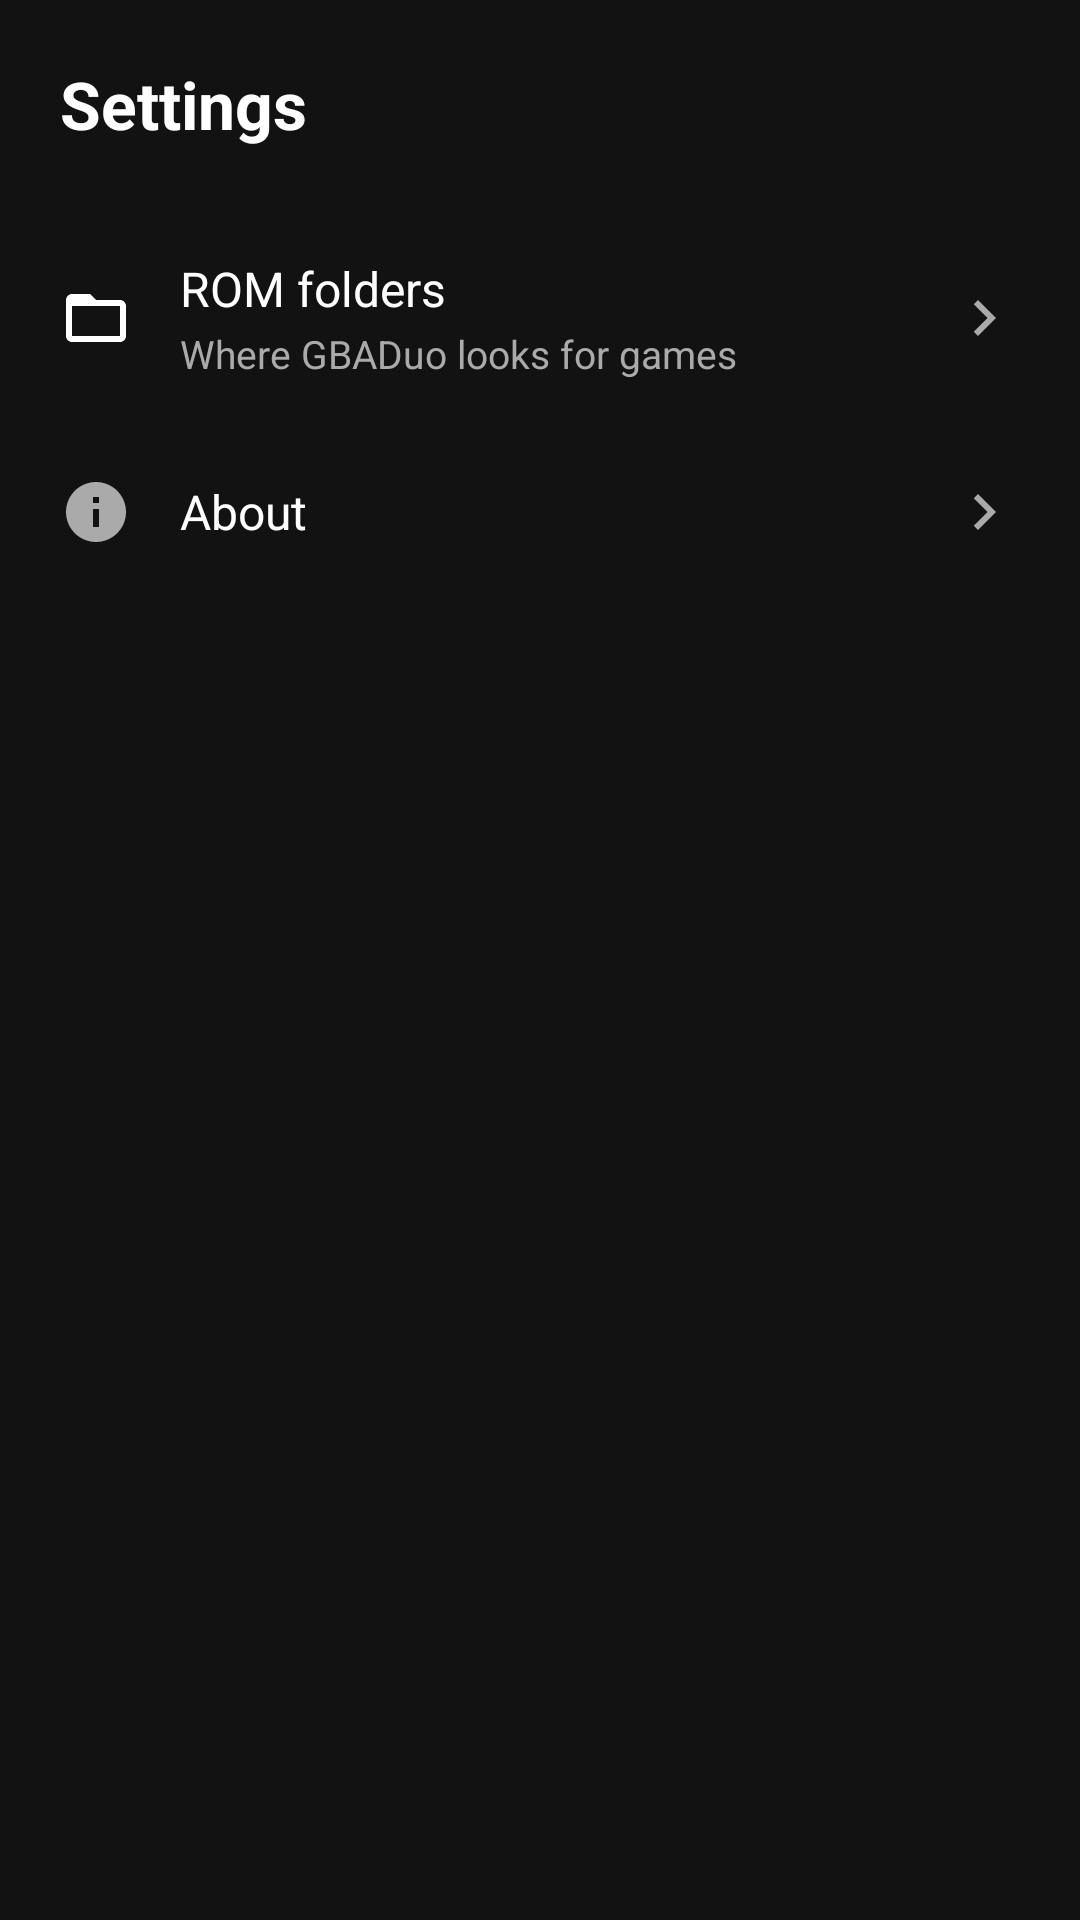

Locate icon controls on the screen. Image size 1080×1920, boxes as (x1, y1, x2, y2).
chevron right: (974, 300, 996, 336), (974, 494, 996, 530)
info: (66, 482, 126, 542)
